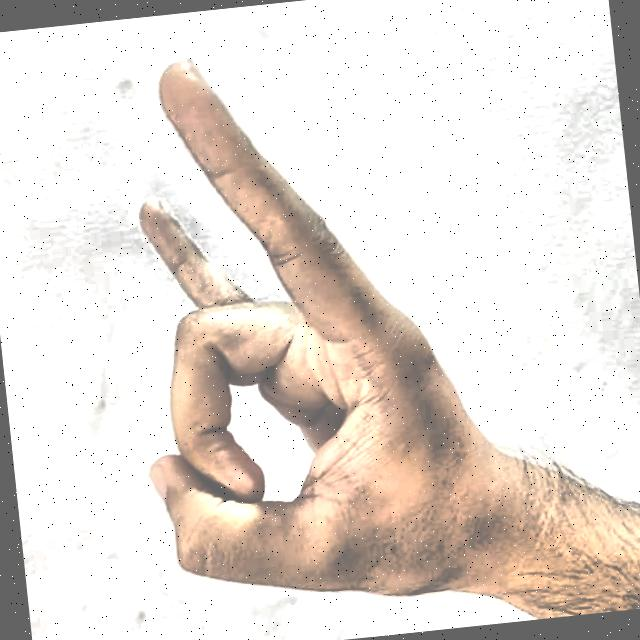Cha: (65, 19, 532, 640)
